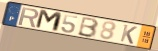5: (60, 13, 80, 34)
8: (99, 21, 118, 42)
B: (76, 16, 100, 39)
K: (119, 24, 139, 46)
M: (34, 8, 64, 33)
R: (18, 6, 41, 29)
